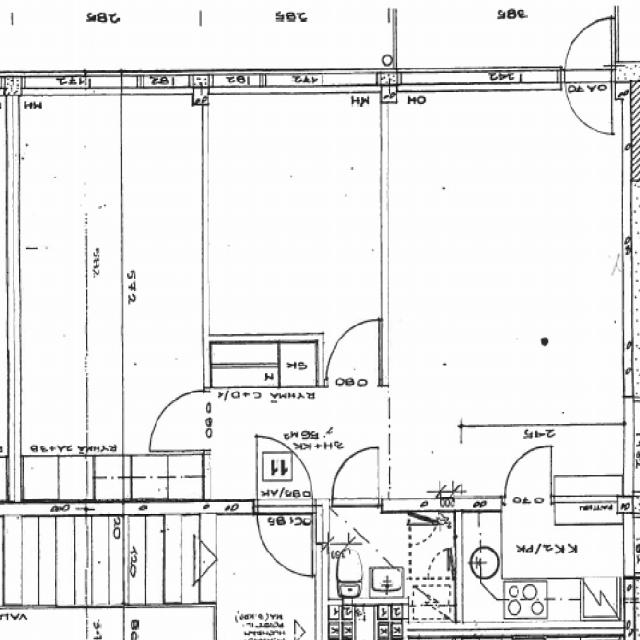door: (257, 436, 313, 513), (257, 498, 313, 575), (564, 19, 612, 96), (148, 390, 209, 450), (564, 72, 612, 148), (326, 319, 378, 385), (332, 446, 378, 512)
